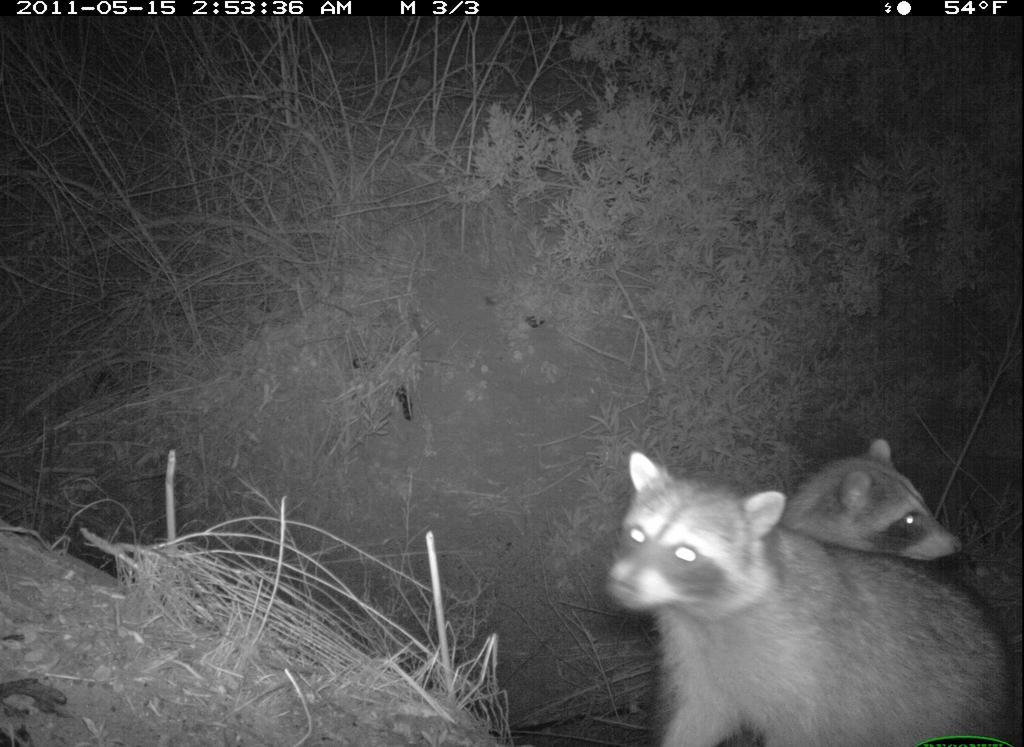raccoon: (601, 450, 1018, 745), (771, 436, 966, 724)
